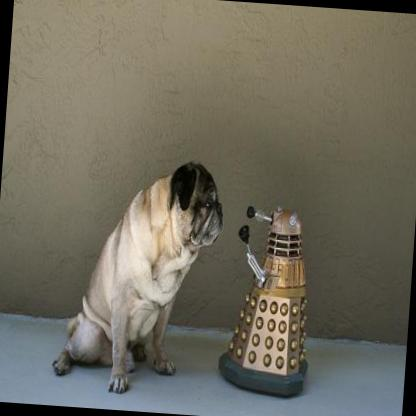pug: (48, 147, 228, 401)
